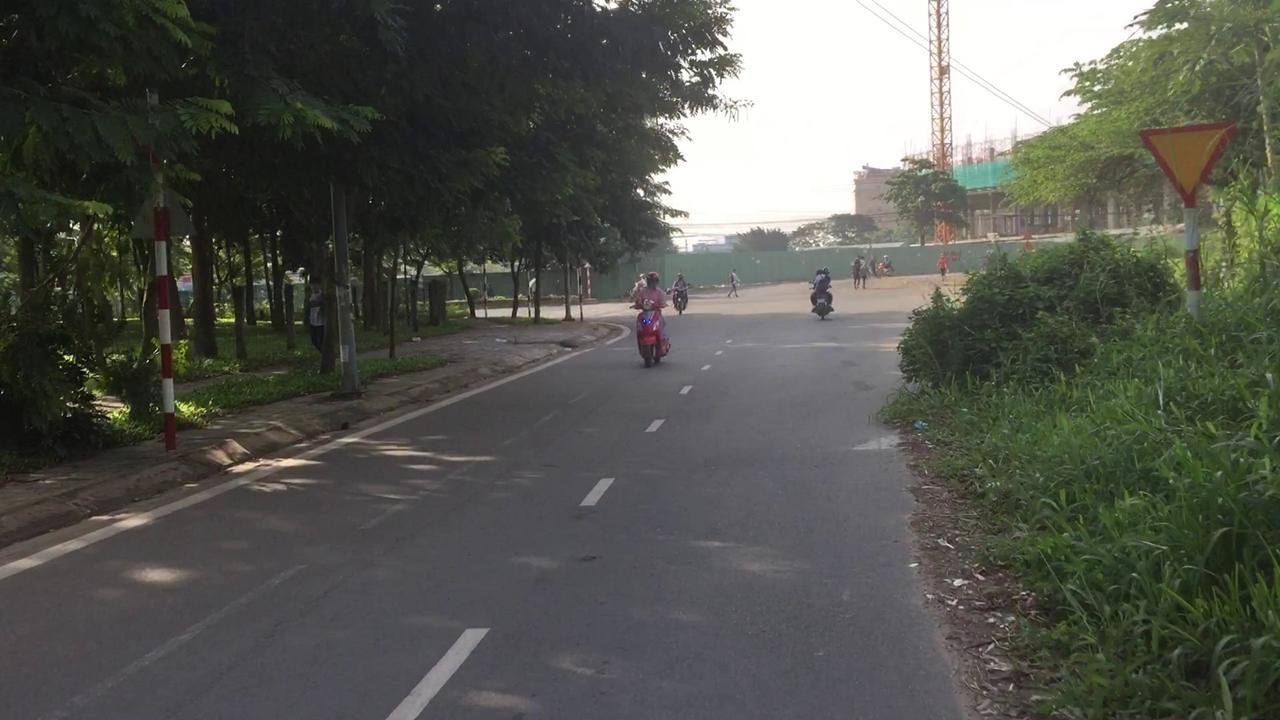P.128: (1136, 119, 1234, 202)
